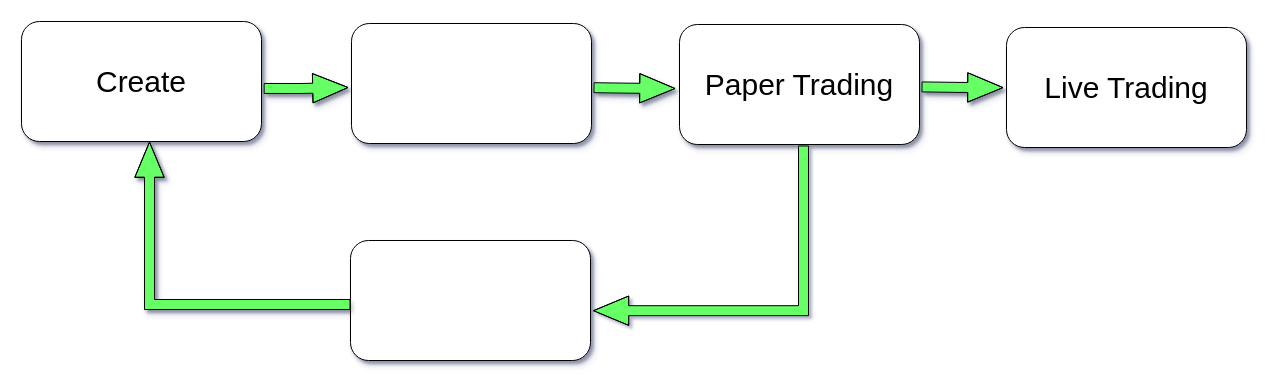
Some shapes in this 1276 by 391 pixel diagram are drawn without their labels. Here are the shapes that lost their labels. From the top down, the centre of each, then its label:
At point 472,84: "Backtesting".
At point 471,302: "Improvement Needed".
